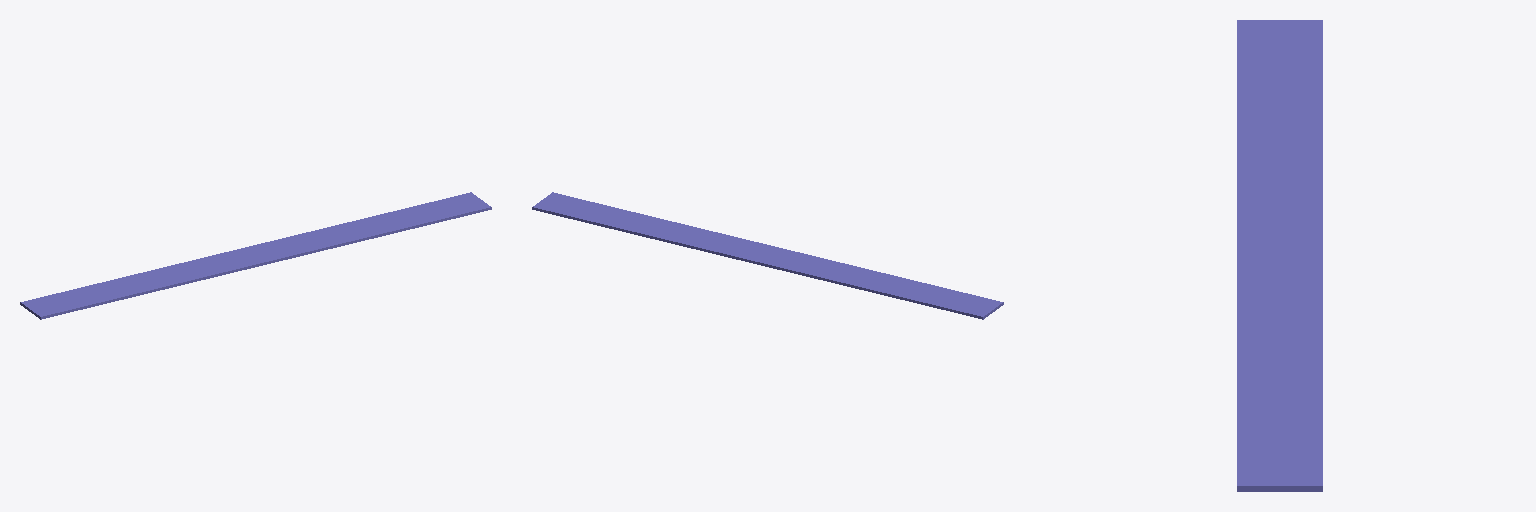
The robot description file, URDF, robot "ruler":
<?xml version="0.0" ?>
<robot name="ruler">
  <link name="rulerBody">
    <inertial>
      <origin rpy="0 0 0" xyz="0 0 0"/>
       <mass value="1.0"/>
       <inertia ixx="1" ixy="0" ixz="0" iyy="1" iyz="0" izz="1"/>
    </inertial>
    <visual>
      <origin rpy="0 0 0" xyz="0 0 0"/>
      <geometry>
		<!-- <mesh filename="ruler.obj" scale="2 2 2"/> -->
        <box size="0.36 0.028 0.002"/>
      </geometry>
       <material name="white">
        <color rgba="0.5 0.5 0.8 1"/>
      </material>
    </visual>
    <collision>
      <origin rpy="0 0 0" xyz="0 0 0"/>
      <geometry>
	 	<box size="0.36 0.014 0.002"/>
      </geometry>
    </collision>
  </link>
</robot>

--- Facts derived from the render (not from the file) ---
The picture shows the robot from 3 angles, left to right: view 1: azimuth 30°, elevation 25°; view 2: azimuth 150°, elevation 25°; view 3: azimuth 270°, elevation 25°; orthographic projection.
Model ruler with 1 links and 0 joints (none), rooted at rulerBody, posed all joints at 0.
Links seen in each view (by area): view 1: rulerBody; view 2: rulerBody; view 3: rulerBody.
Link boxes in pixels (bbox=[...]): rulerBody: bbox=[20, 192, 491, 319]; rulerBody: bbox=[532, 192, 1003, 319]; rulerBody: bbox=[1237, 20, 1322, 491].
Size in the robot's own frame: 0.36 by 0.028 by 0.002 metres.
Geometry: primitives only (box / cylinder / sphere), no mesh files.
